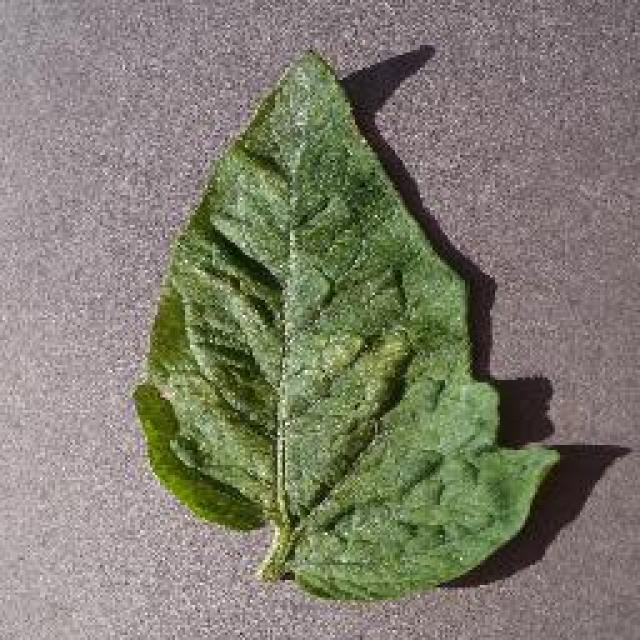Tomato___Spider_mites Two-spotted_spider_mite: (135, 52, 558, 598)
